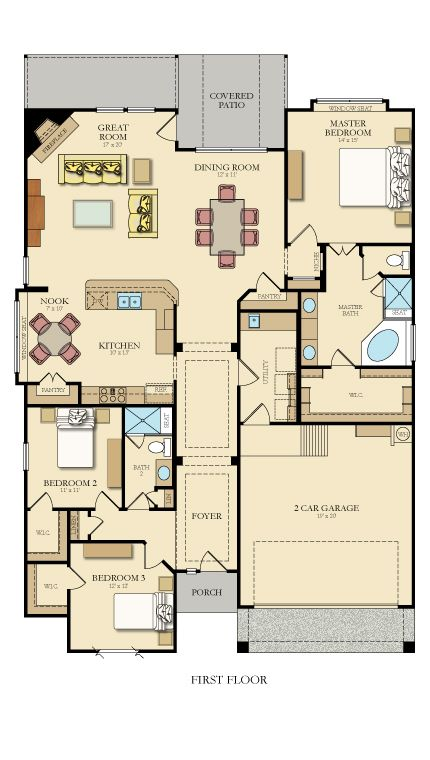door: (241, 357, 264, 388), (248, 268, 284, 287), (245, 399, 273, 422), (37, 367, 67, 388), (70, 563, 91, 593), (135, 544, 158, 571), (360, 277, 381, 303), (293, 219, 320, 237), (195, 548, 220, 567), (89, 512, 107, 538), (92, 488, 116, 505), (30, 489, 52, 505), (331, 243, 353, 259), (328, 345, 350, 361)
room: (21, 105, 180, 291), (12, 283, 178, 408), (280, 106, 416, 247), (295, 240, 417, 369), (65, 535, 177, 657), (22, 400, 126, 512), (295, 362, 416, 427), (234, 308, 301, 425), (119, 430, 177, 512), (23, 558, 70, 617), (22, 506, 69, 565), (120, 401, 176, 436), (22, 381, 82, 406)
window: (191, 140, 270, 157), (10, 297, 24, 374), (312, 93, 384, 105), (407, 321, 419, 362), (20, 253, 30, 287), (20, 439, 30, 473), (94, 105, 125, 115), (122, 101, 153, 111)
